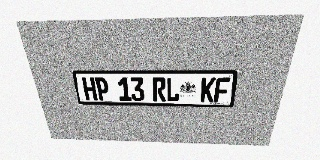1: (117, 77, 132, 101)
3: (130, 77, 144, 101)
F: (214, 78, 230, 102)
H: (81, 77, 98, 100)
K: (200, 78, 216, 102)
L: (166, 77, 180, 102)
P: (94, 77, 110, 101)
R: (152, 77, 166, 101)
